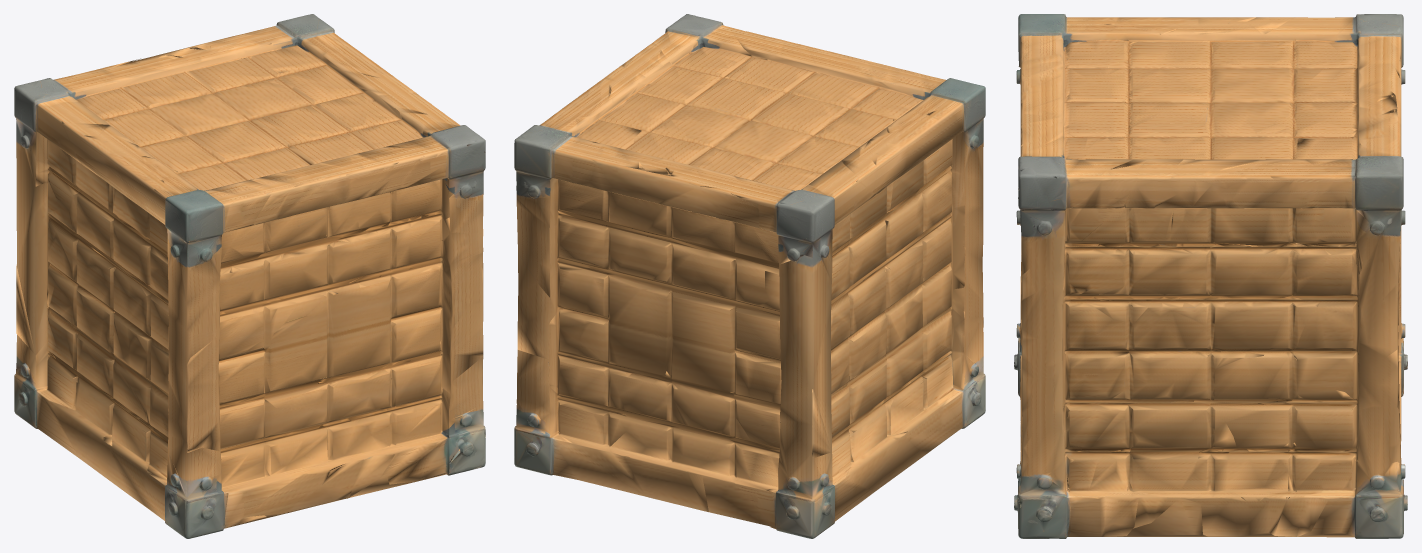
File: prop-crate.glb
3 renders of one model, left to right at view 1: azimuth 30°, elevation 25°; view 2: azimuth 150°, elevation 25°; view 3: azimuth 270°, elevation 25°, orthographic. The views are drawn at different scales.
Bounding box in the file's own units: 1.85 × 1.91 × 1.85.
1 material, 1 textured.
